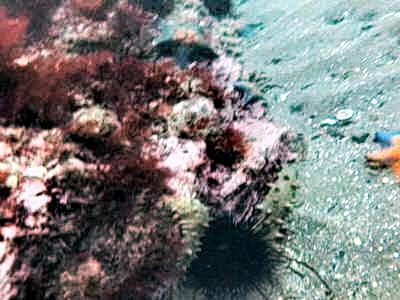urchin: (190, 217, 265, 288)
